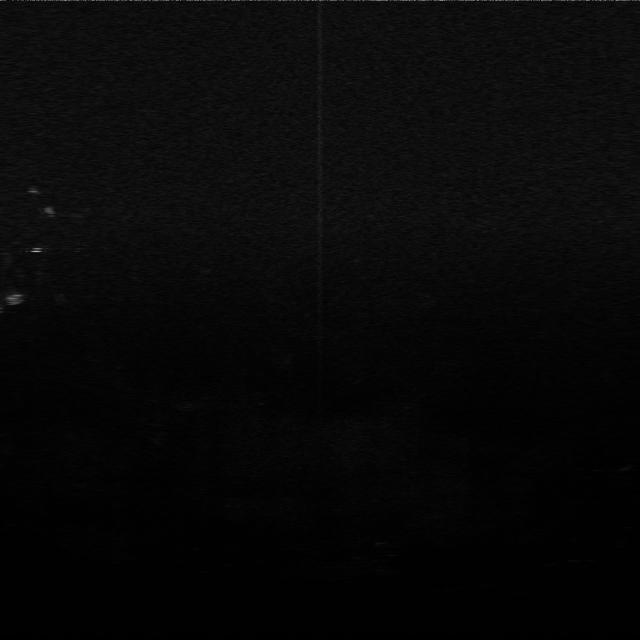rov: (1, 290, 28, 308)
